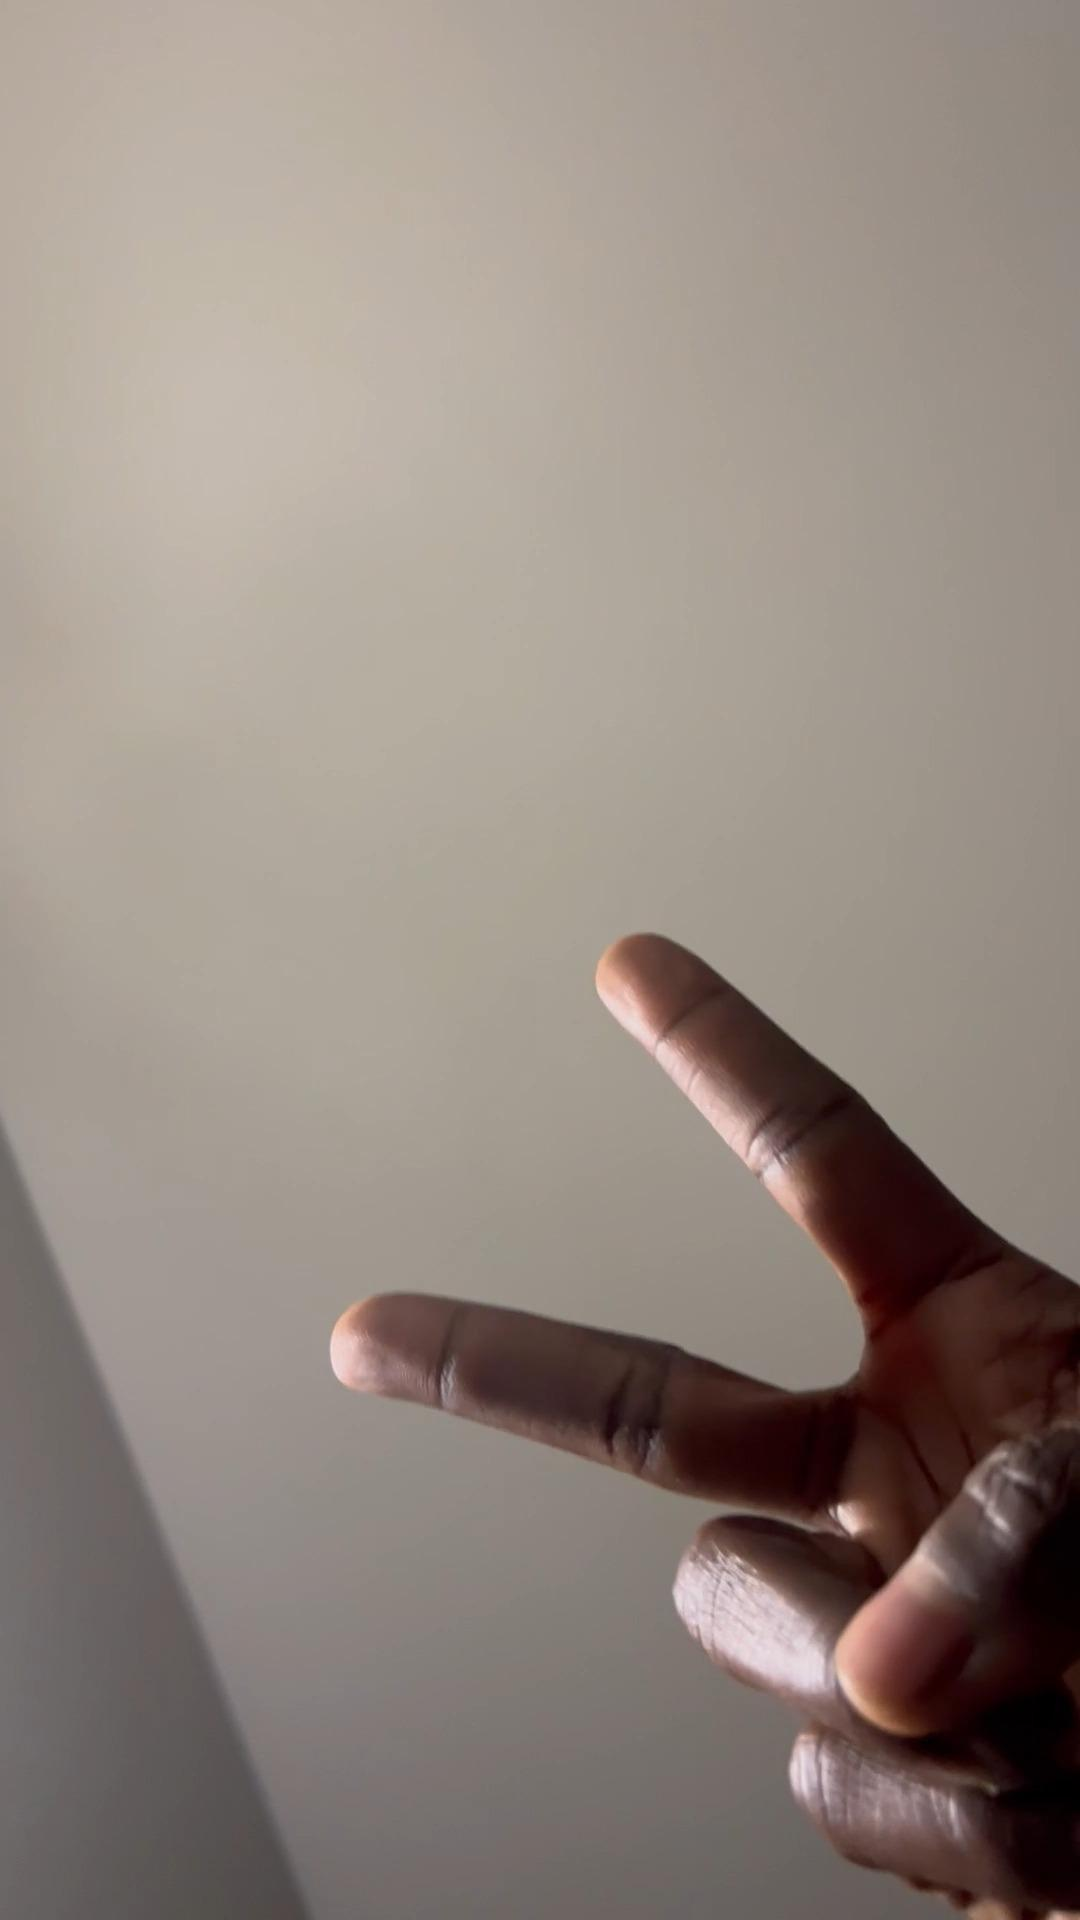Scissors: (328, 938, 1080, 1920)
